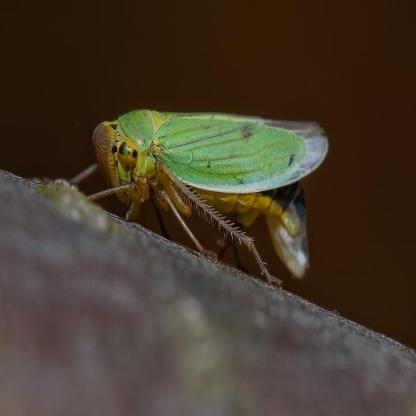Green-Leafhopper: (65, 107, 331, 306)
